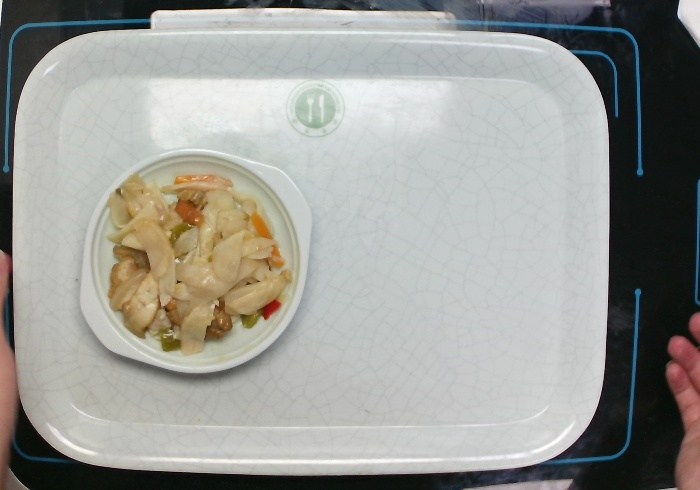JYsf-Shuang_Er_Pan: (74, 143, 321, 379)
